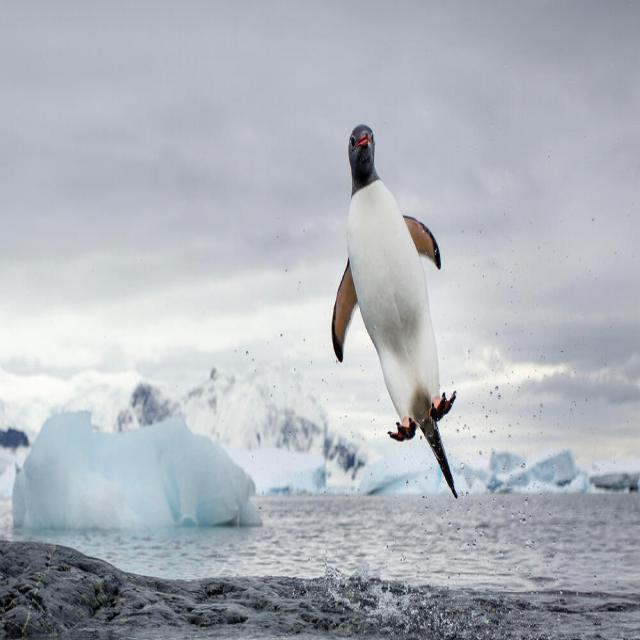penguin: (332, 125, 459, 498)
